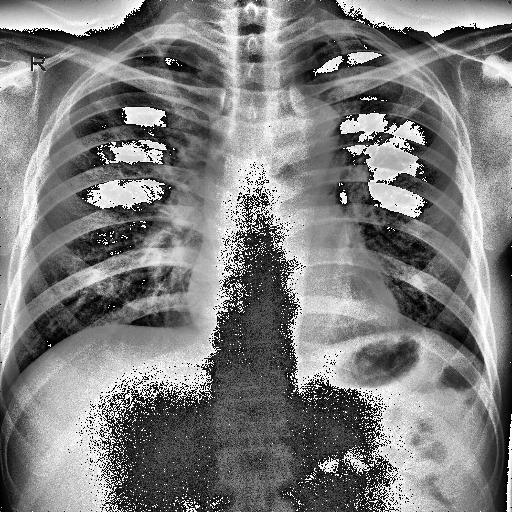0- Aortic enlargement: (254, 94, 340, 168), (276, 97, 338, 173)
13- Pulmonary fibrosis: (332, 61, 430, 160), (338, 76, 426, 150), (86, 116, 156, 198), (360, 92, 434, 160), (82, 111, 138, 163), (89, 116, 128, 164)
